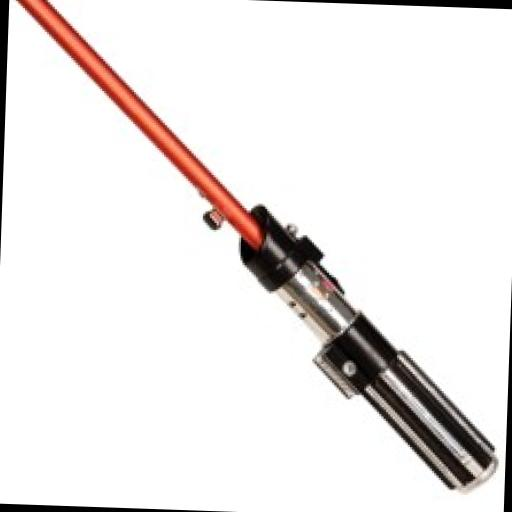sith saber: (0, 0, 509, 491)
